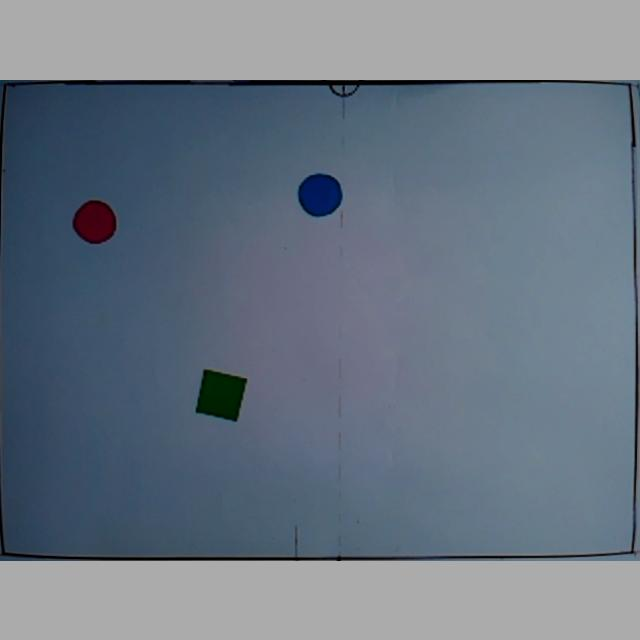blueCircle: (298, 171, 344, 217)
greenSquare: (194, 368, 250, 420)
pinkCircle: (72, 198, 118, 245)
